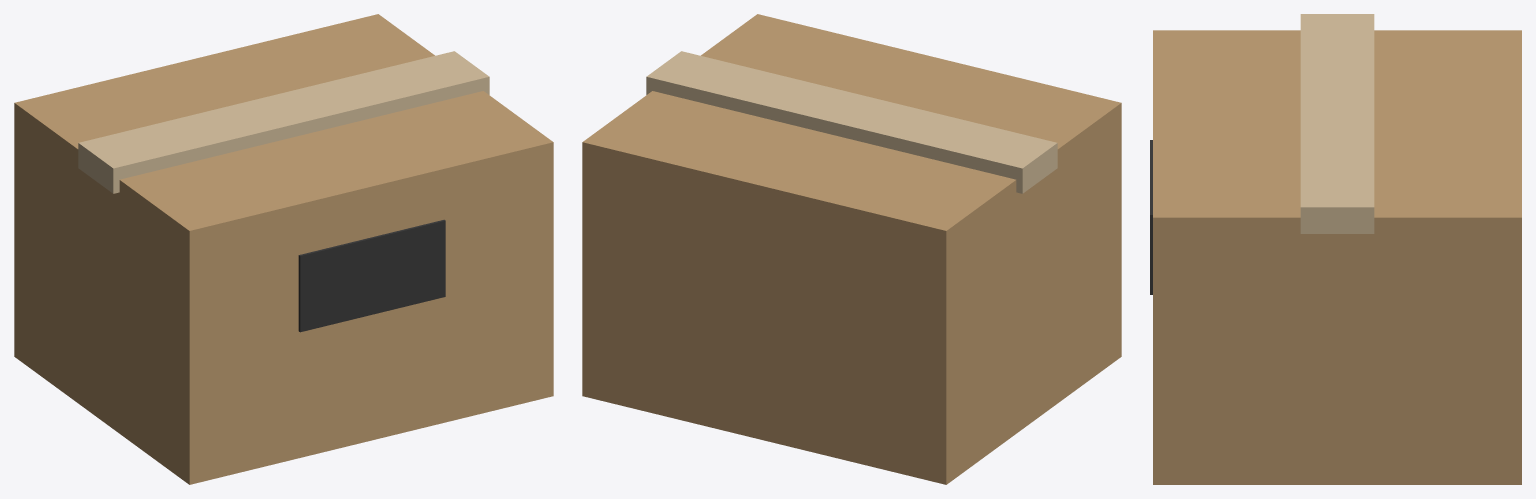
The picture shows the model from 3 angles, left to right: view 1: azimuth 30°, elevation 25°; view 2: azimuth 150°, elevation 25°; view 3: azimuth 270°, elevation 25°; orthographic projection. The views are drawn at different scales.
Parts seen in each view (by area): view 1: box; view 2: box; view 3: box.
Part boxes in pixels (bbox=[...]): box: bbox=[14, 14, 553, 484]; box: bbox=[582, 14, 1121, 484]; box: bbox=[1150, 14, 1521, 484].
Bounding box in the file's own units: 1.24 × 0.84 × 1.01.
